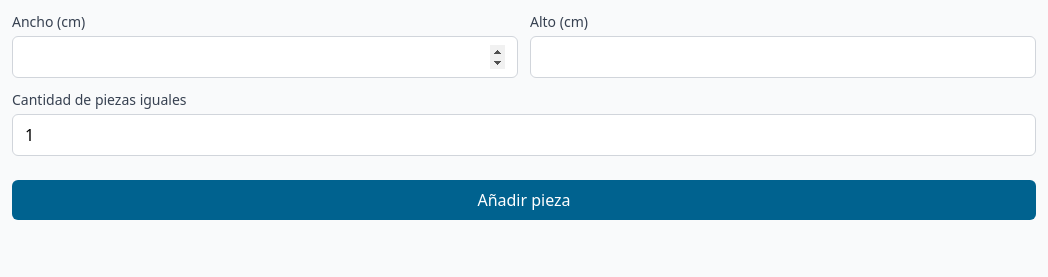
Scenario: OrderLineForm › M2 › rejects dimensions above the board
Type "245" into the number field with test id "width-input".
click(265, 57); type("245")  # box [12, 36, 518, 78]
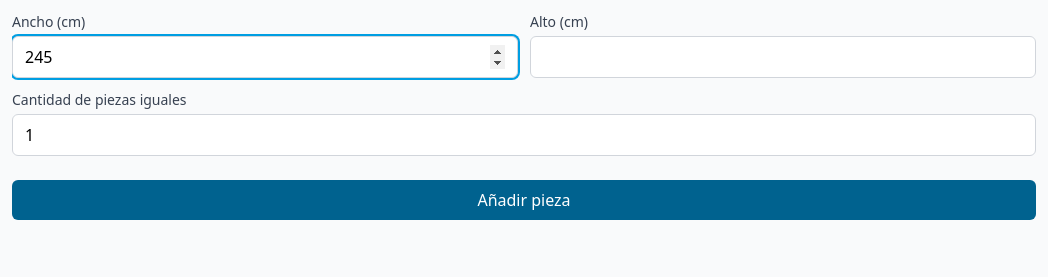
Type "50" into the number field with test id "height-input".
click(783, 57); type("50")  # box [530, 36, 1036, 78]
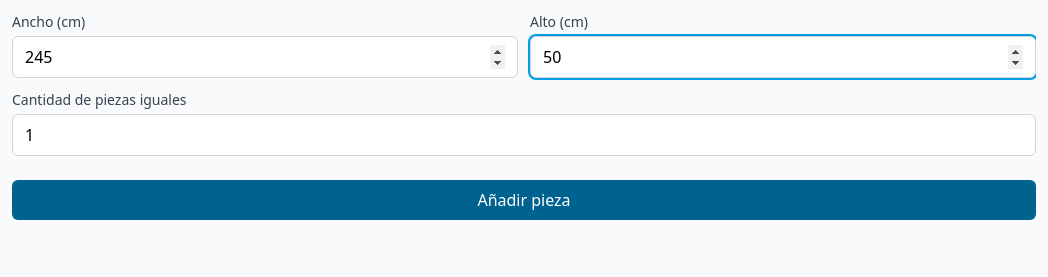
Click the button with test id "add-piece-btn".
click(524, 200)  # box [12, 180, 1036, 220]
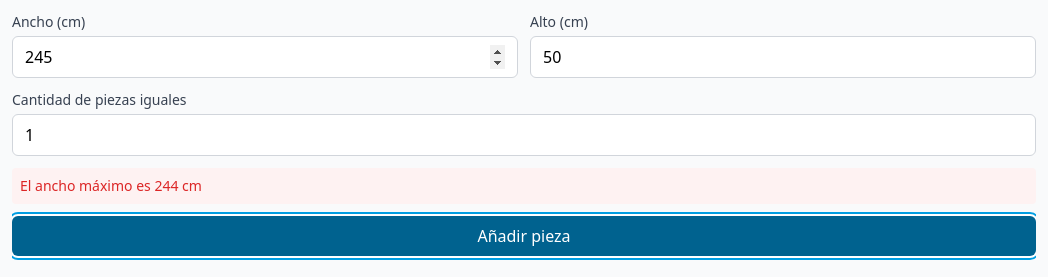
Expected: the text "El ancho máximo es 244 cm" is shown, [12, 168, 1036, 204]
Replace the text in the number field with test id "width-input" with "100" at [265, 57], box [12, 36, 518, 78]
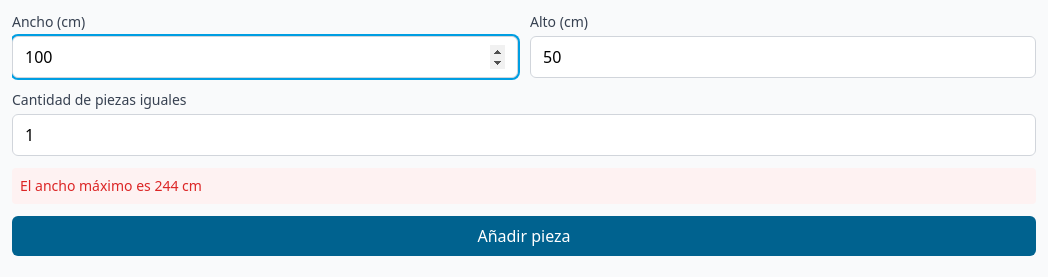
Replace the text in the number field with test id "height-input" with "123" at [783, 57], box [530, 36, 1036, 78]
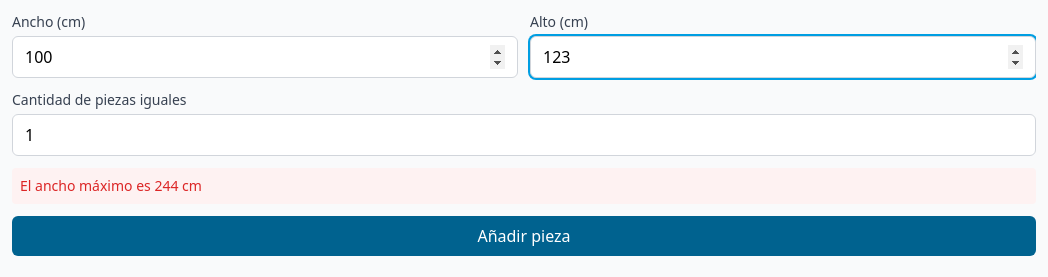
Click the button with test id "add-piece-btn".
click(524, 236)  # box [12, 216, 1036, 256]
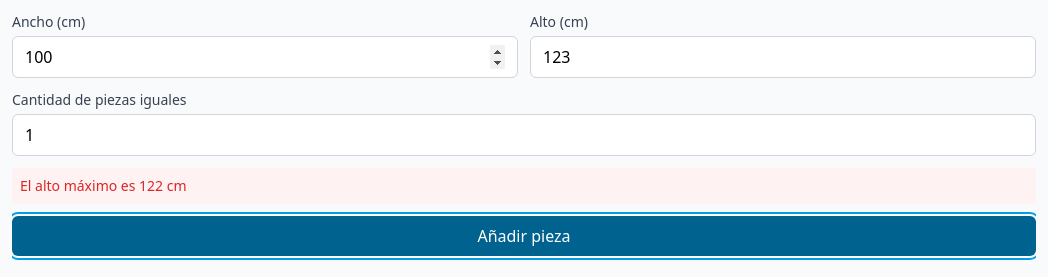
Expected: the text "El alto máximo es 122 cm" is shown, [12, 168, 1036, 204]
